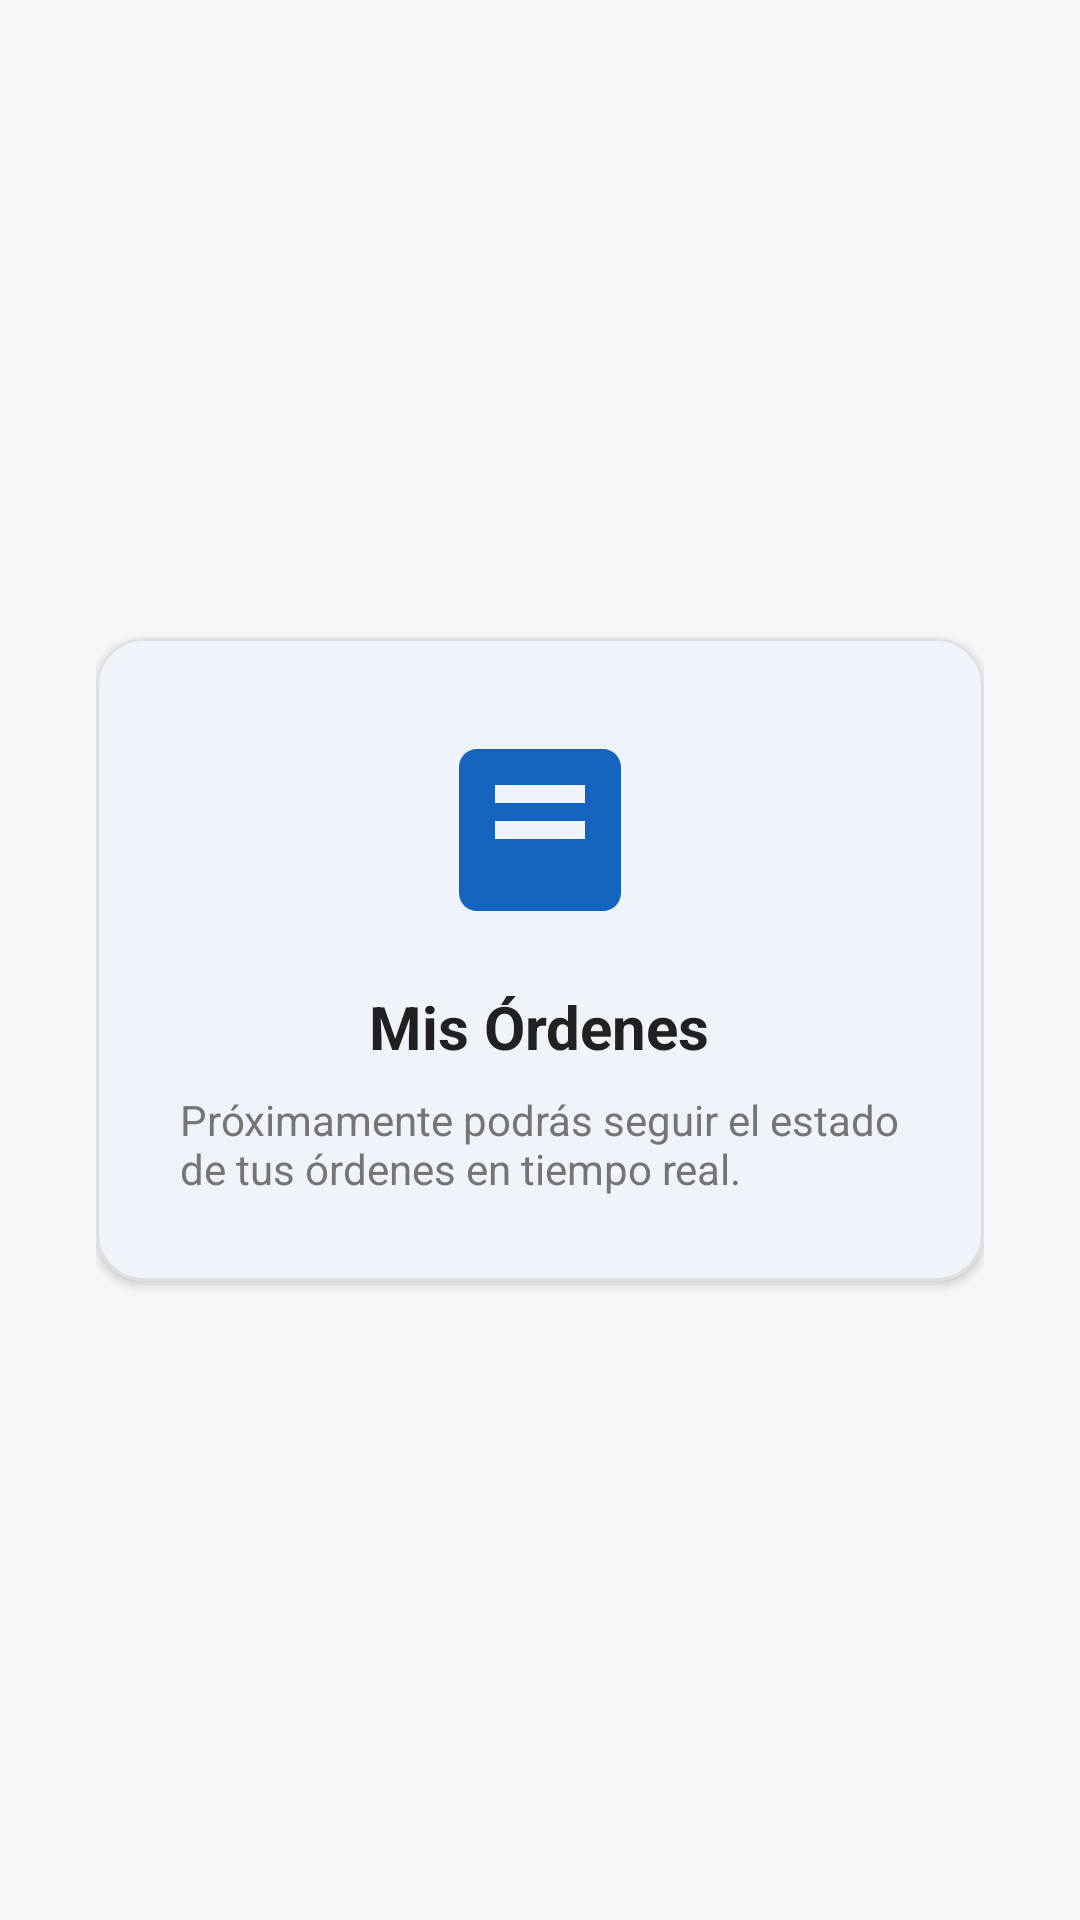

Icon bounding boxes for this 1080 × 1920 phone screenshot, format (left=x1, top=y1, right=x2, bottom=y2):
Icono Ordenes: (left=459, top=749, right=621, bottom=911)
